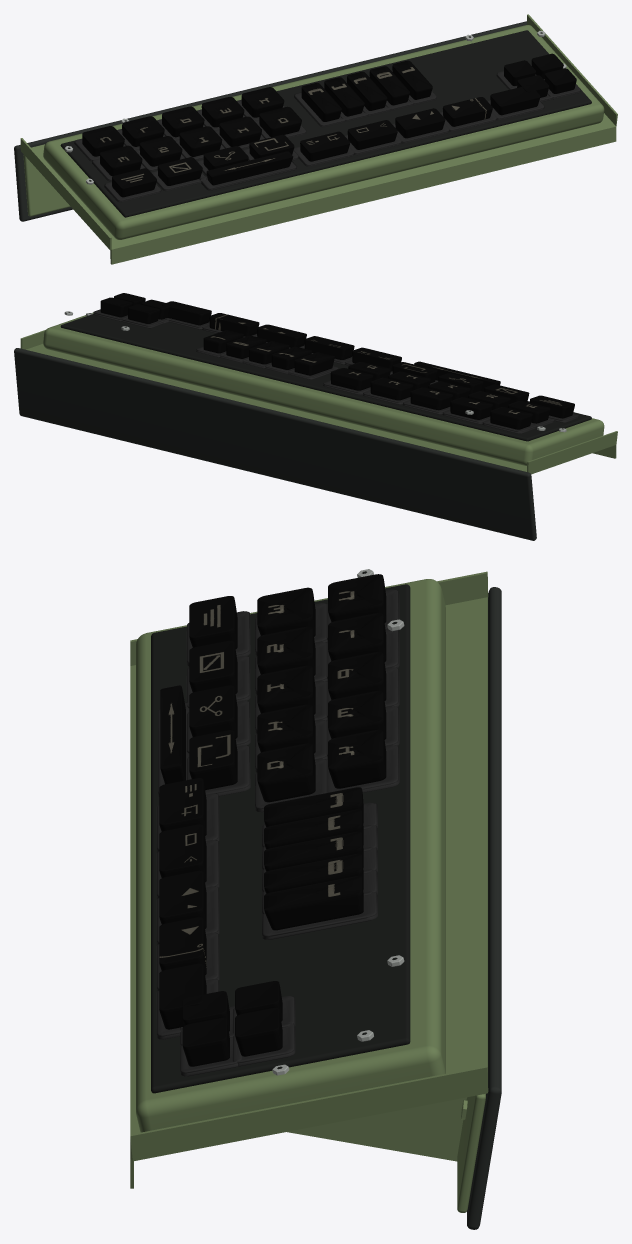
Rendered from keyboard-tray.glb.
3 renders of one model, top to bottom at view 1: azimuth 30°, elevation 25°; view 2: azimuth 150°, elevation 25°; view 3: azimuth 270°, elevation 25°, orthographic. The views are drawn at different scales.
Parts seen in each view (by area): view 1: Rugged olive steel perimeter housing, Bent steel keyboard tray, Recessed black elastomer membrane, Flange back perimeter rubber gasket, Terminal mounting back flange, Keycap 20 control space, Keycap 23 control box, Keycap 21 control back, Keycap 22 control enter, Keycap 24 control number, Keycap 25 control punct, Keycap 11 vowel a (+26 smaller); view 2: Flange back perimeter rubber gasket, Rugged olive steel perimeter housing, Recessed black elastomer membrane, Bent steel keyboard tray, Keycap 24 control number, Keycap 22 control enter, Keycap 25 control punct, Keycap 23 control box, Keycap 04 onset m, Keycap 05 onset k, Keycap 03 onset p, Keycap 01 onset n (+19 smaller); view 3: Recessed black elastomer membrane, Rugged olive steel perimeter housing, Bent steel keyboard tray, Flange back perimeter rubber gasket, Tray triangular gusset +0.34, Keycap 15 vowel u, Keycap 10 onset carrier, Keycap 05 onset k, Keycap 19 command help, Keycap 20 control space, Keycap 08 onset t, Keycap 07 onset sh (+27 smaller).
Part boxes in pixels (<box>): Rugged olive steel perimeter housing: <box>43,25,604,239</box>; Bent steel keyboard tray: <box>20,14,617,264</box>; Recessed black elastomer membrane: <box>60,30,591,217</box>; Flange back perimeter rubber gasket: <box>14,21,526,221</box>; Terminal mounting back flange: <box>23,154,70,216</box>; Keycap 20 control space: <box>206,151,293,185</box>; Keycap 23 control box: <box>395,108,445,138</box>; Keycap 21 control back: <box>300,131,350,161</box>; Keycap 22 control enter: <box>347,120,397,149</box>; Keycap 24 control number: <box>442,97,492,126</box>; Keycap 25 control punct: <box>490,85,540,115</box>; Keycap 11 vowel a: <box>301,82,341,121</box>; Flange back perimeter rubber gasket: <box>14,348,536,540</box>; Rugged olive steel perimeter housing: <box>43,312,604,465</box>; Recessed black elastomer membrane: <box>60,314,591,441</box>; Bent steel keyboard tray: <box>20,330,617,474</box>; Keycap 24 control number: <box>209,313,259,336</box>; Keycap 22 control enter: <box>304,336,354,359</box>; Keycap 25 control punct: <box>162,301,211,325</box>; Keycap 23 control box: <box>257,324,306,347</box>; Keycap 04 onset m: <box>370,377,413,400</box>; Keycap 05 onset k: <box>330,368,373,390</box>; Keycap 03 onset p: <box>410,387,452,410</box>; Keycap 01 onset n: <box>490,407,532,429</box>; Recessed black elastomer membrane: <box>151,584,410,1093</box>; Rugged olive steel perimeter housing: <box>136,579,445,1132</box>; Bent steel keyboard tray: <box>130,571,488,1188</box>; Flange back perimeter rubber gasket: <box>467,587,501,1229</box>; Tray triangular gusset +0.34: <box>287,1097,466,1161</box>; Keycap 15 vowel u: <box>264,876,363,930</box>; Keycap 10 onset carrier: <box>257,743,315,802</box>; Keycap 05 onset k: <box>328,729,386,788</box>; Keycap 19 command help: <box>189,730,237,790</box>; Keycap 20 control space: <box>160,685,185,784</box>; Keycap 08 onset t: <box>257,665,315,714</box>; Keycap 07 onset sh: <box>257,626,315,675</box>.
Size of the model in its own units: 0.9 by 0.1603 by 0.2806.
34 materials, 29 textured.
